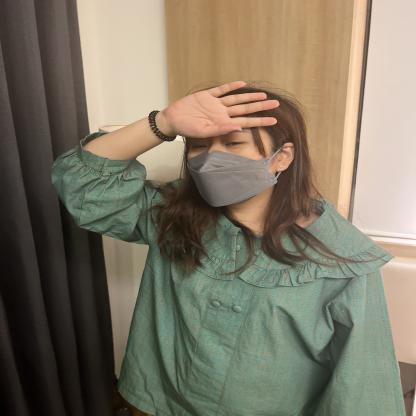Sick: (20, 75, 415, 169)
